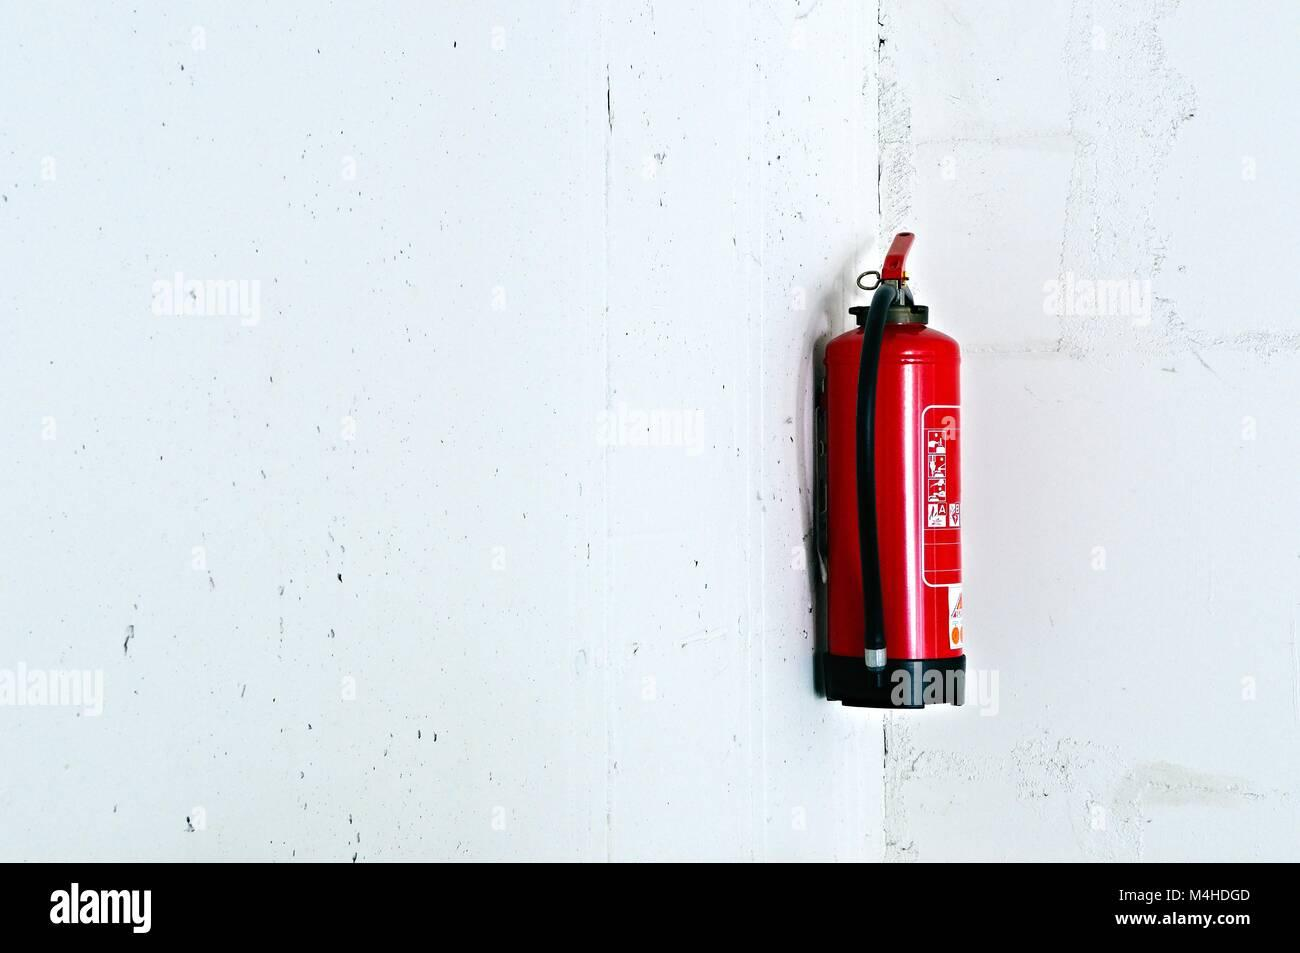wall-mounted: (776, 206, 1011, 744)
